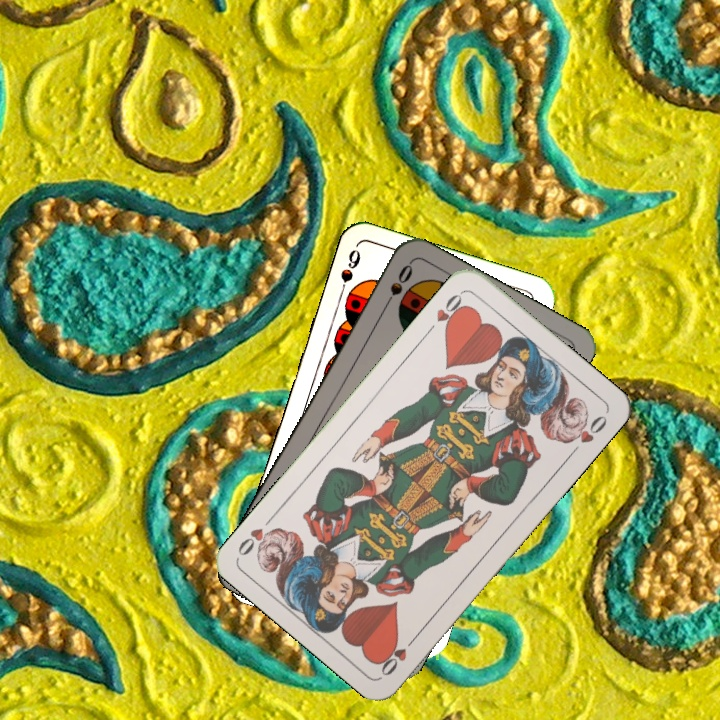HO: (422, 288, 469, 337), (376, 630, 421, 679)
S9: (334, 245, 363, 302)
SO: (378, 259, 416, 314)
